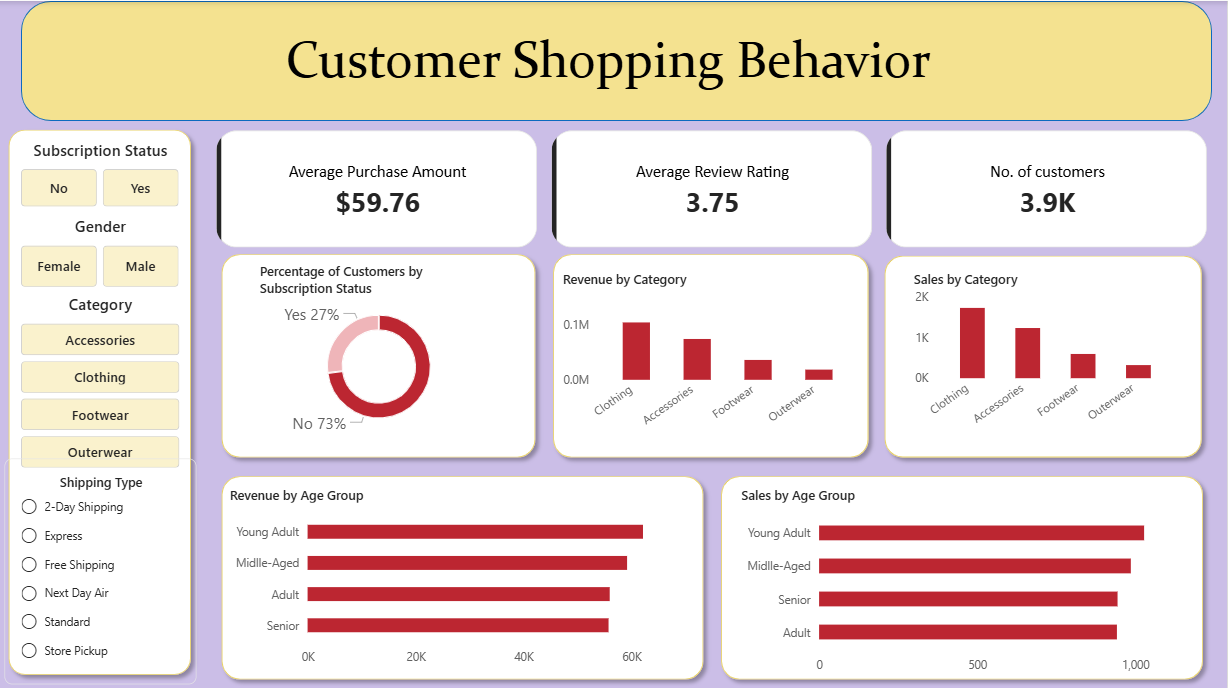

The dashboard page shown, as its layout file describes it:
{"tool":"powerbi","page":{"name":"Page 1","canvas":[1280,720],"ordinal":0},"visuals":[{"type":"cardVisual","fields":{"Data":["public customer.avg purchase amount","public customer.avg review rating","public customer.No. of customers"]},"box":[221.9,131.3,1039.4,129.7],"z":0},{"type":"shape","box":[21.9,0,1241,125],"z":1000},{"type":"textbox","box":[0,28.3,1279.4,151.2],"z":2000},{"type":"shape","box":[221.7,255,345,230],"z":3000},{"type":"donutChart","title":"Percentage of Customers by Subscription Status","fields":{"Category":["public customer.subscription_status"],"Y":["Count(public customer.customer_id)"]},"box":[255,258.3,280,210],"z":4000},{"type":"shape","box":[566.7,255,346.7,230],"z":5000},{"type":"clusteredColumnChart","title":"Revenue by Category","fields":{"Category":["public customer.category"],"Y":["Sum(public customer.purchase_amount)"]},"box":[570,265,341.7,210],"z":6000},{"type":"shape","box":[913.3,256.7,348.3,228.3],"z":7000},{"type":"clusteredColumnChart","title":"Sales by Category","fields":{"Category":["public customer.category"],"Y":["CountNonNull(public customer.customer_id)"]},"box":[936.7,265,305,208.3],"z":8000},{"type":"shape","box":[0,125,207.9,586.1],"z":9000},{"type":"advancedSlicerVisual","title":"Subscription Status","fields":{"Values":["public customer.subscription_status"]},"box":[21.9,143.8,165.7,70.3],"z":10000},{"type":"advancedSlicerVisual","title":"Gender","fields":{"Values":["public customer.gender"]},"box":[22.2,223.1,165.7,75],"z":11000},{"type":"advancedSlicerVisual","title":"Category","fields":{"Values":["public customer.category"]},"box":[21.4,304.3,165.7,181.4],"z":12000},{"type":"listSlicer","title":"Shipping Type","fields":{"Values":["public customer.shipping_type"]},"box":[5,476.7,200,235],"z":13000},{"type":"shape","box":[221.7,486.7,520,230],"z":14000},{"type":"shape","box":[741.7,486.7,520,230],"z":15000},{"type":"clusteredBarChart","title":"Revenue by Age Group","fields":{"Category":["public customer.age_group"],"Y":["Sum(public customer.purchase_amount)"]},"box":[223.3,490,516.7,221.7],"z":16000},{"type":"clusteredBarChart","title":"Sales by Age Group","fields":{"Category":["public customer.age_group"],"Y":["CountNonNull(public customer.customer_id)"]},"box":[756.7,490,523.3,230],"z":17000}]}

Visuals, with their boxes in screenshot pixels (x1, y1, x2, y2), scaled from the page's 1280x720 canvas onto the 1228x688 screenshot:
cardVisual - public customer.avg purchase amount x public customer.avg review rating: (x1=213, y1=125, x2=1210, y2=249)
shape: (x1=21, y1=0, x2=1212, y2=119)
textbox: (x1=0, y1=27, x2=1227, y2=172)
shape: (x1=213, y1=244, x2=544, y2=463)
"Percentage of Customers by Subscription Status" donutChart: (x1=245, y1=247, x2=513, y2=447)
shape: (x1=544, y1=244, x2=876, y2=463)
"Revenue by Category" clusteredColumnChart: (x1=547, y1=253, x2=875, y2=454)
shape: (x1=876, y1=245, x2=1210, y2=463)
"Sales by Category" clusteredColumnChart: (x1=899, y1=253, x2=1191, y2=452)
shape: (x1=0, y1=119, x2=199, y2=679)
"Subscription Status" advancedSlicerVisual: (x1=21, y1=137, x2=180, y2=205)
"Gender" advancedSlicerVisual: (x1=21, y1=213, x2=180, y2=285)
"Category" advancedSlicerVisual: (x1=21, y1=291, x2=179, y2=464)
"Shipping Type" listSlicer: (x1=5, y1=456, x2=197, y2=680)
shape: (x1=213, y1=465, x2=712, y2=685)
shape: (x1=712, y1=465, x2=1210, y2=685)
"Revenue by Age Group" clusteredBarChart: (x1=214, y1=468, x2=710, y2=680)
"Sales by Age Group" clusteredBarChart: (x1=726, y1=468, x2=1227, y2=687)
